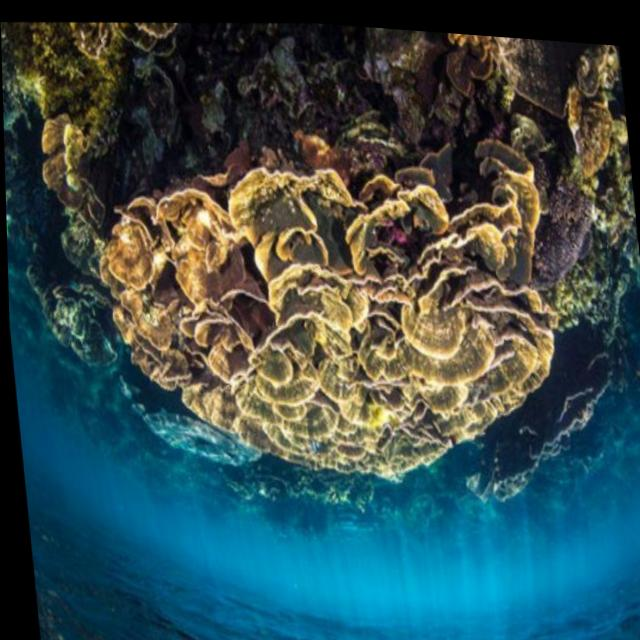Healthy Coral: (12, 1, 614, 507)
